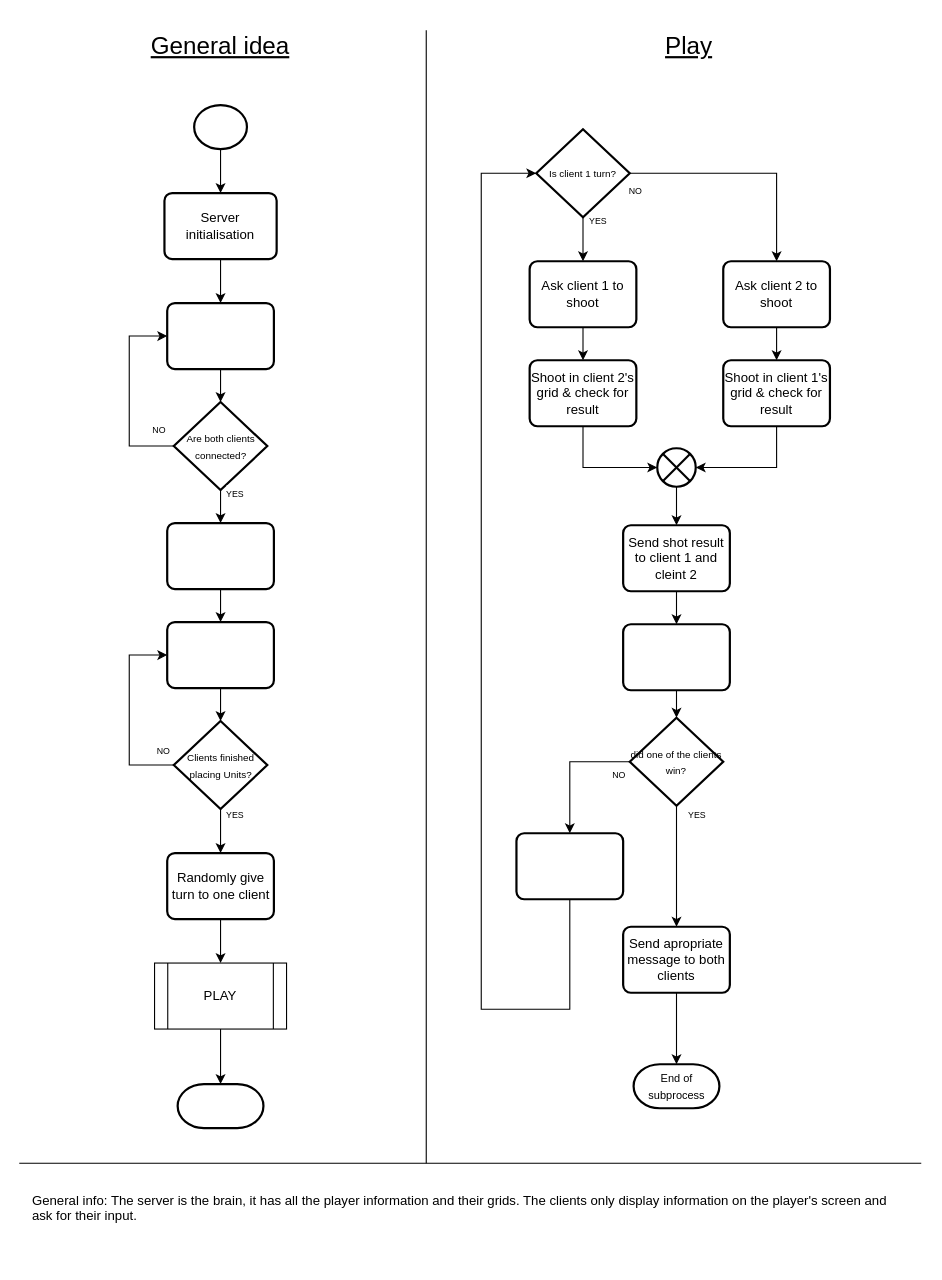
The diagram is 942 pixels wide and 1280 high, and some of its shapes have lost their labels. The centre of each missing label's shape, as x and y in pixels:
Ask them to place their Units: the point at 220,555
Check for winner: the point at 676,657
Close communication: the point at 220,1105
START: the point at 220,126
Swap turn: the point at 569,866
Waiting for clients to connect: the point at 220,335
Waiting for clients to place Units: the point at 220,654
